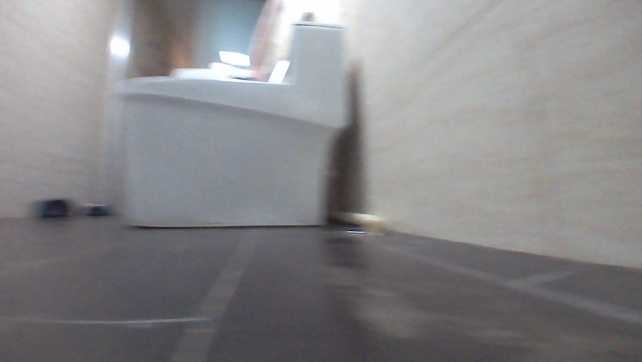toilet: (112, 20, 350, 229)
